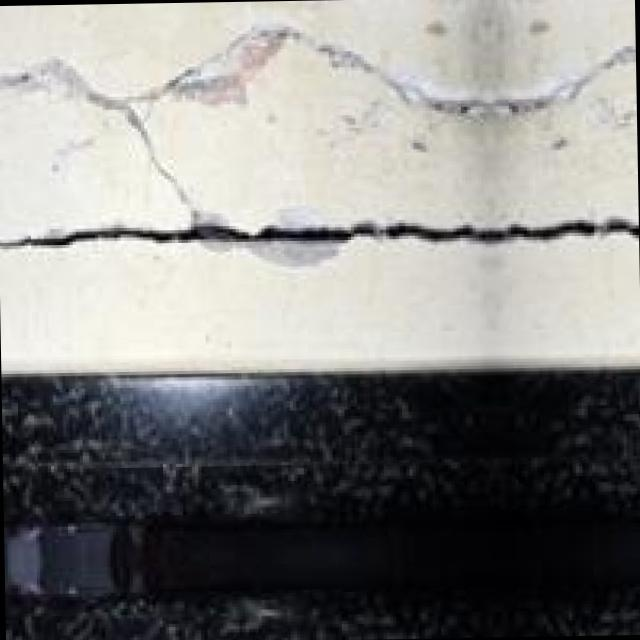crack: (1, 30, 621, 351)
